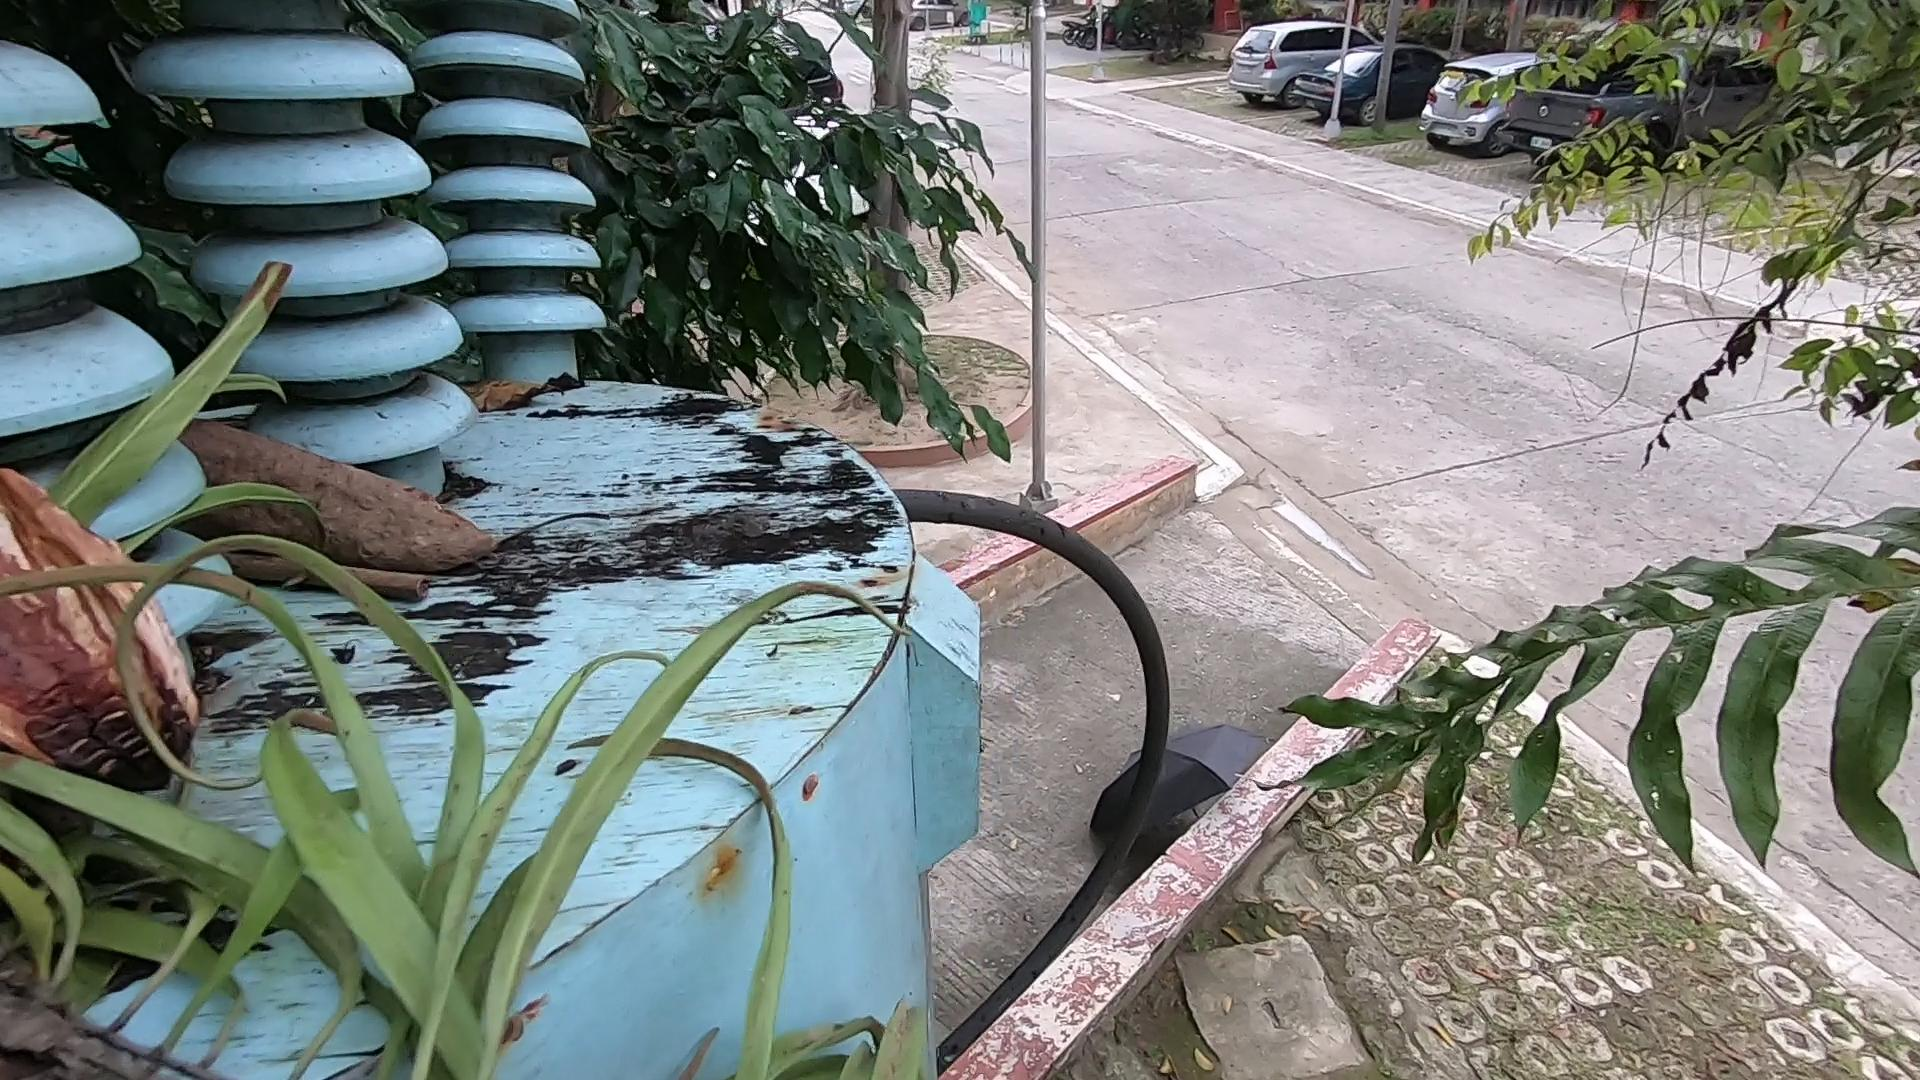branch with leaves: (241, 538, 429, 626)
leaf: (473, 369, 591, 401)
mahogany fruit: (182, 404, 516, 615), (1, 442, 233, 732)
tree branch: (18, 636, 1296, 1080)
